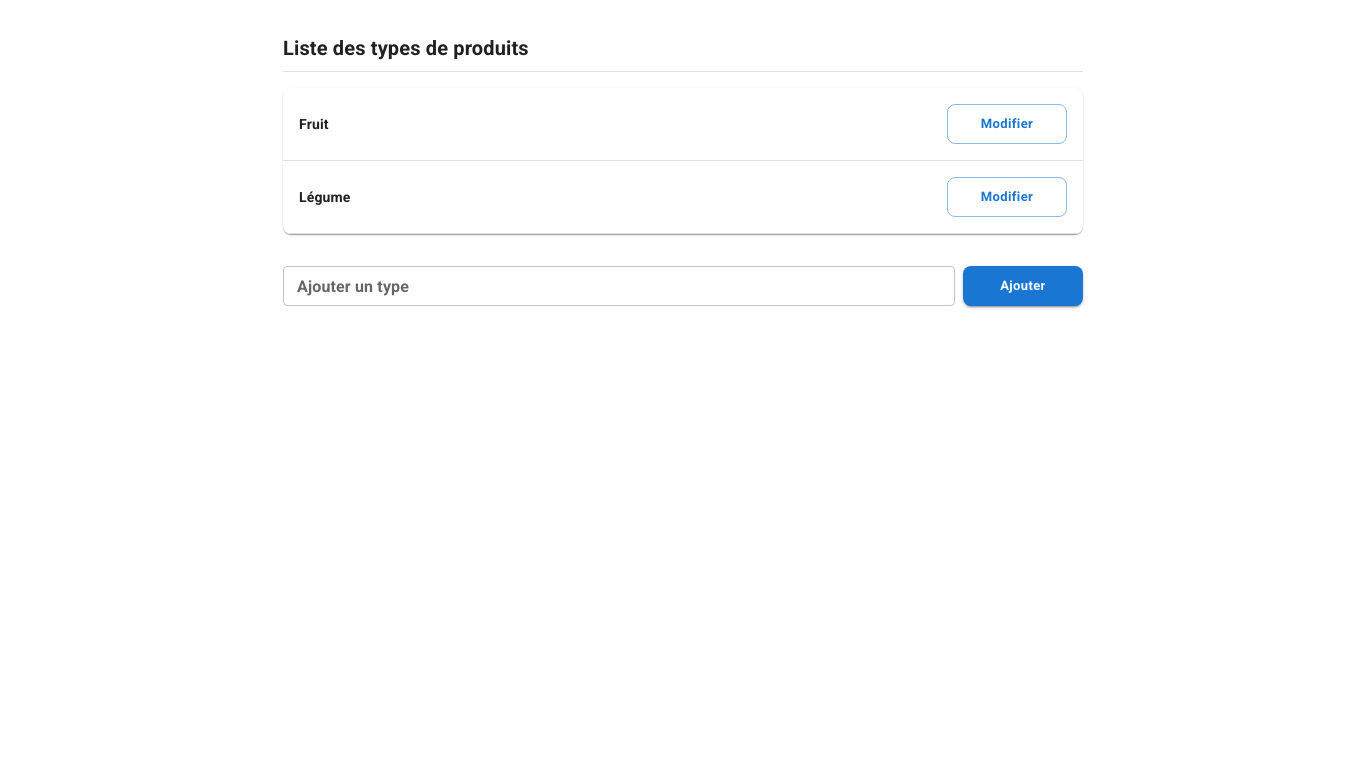
Scenario: ProductTypeListPage › should open edit dialog when clicking on "Modifier"
Click the button "Modifier" in the row of "Fruit": (1007, 124) [947,104,1067,144]
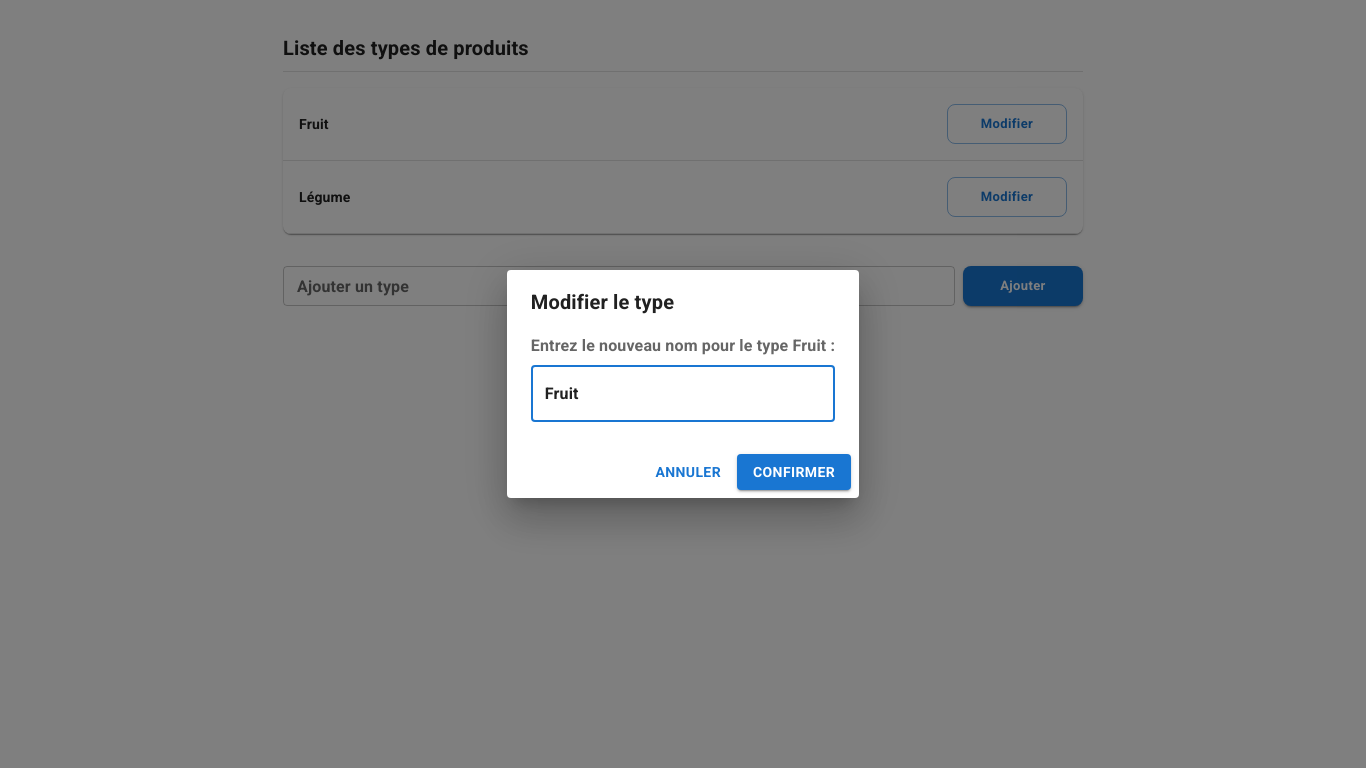
Check: the heading "Modifier le type" is shown, box [531,290,674,314]
